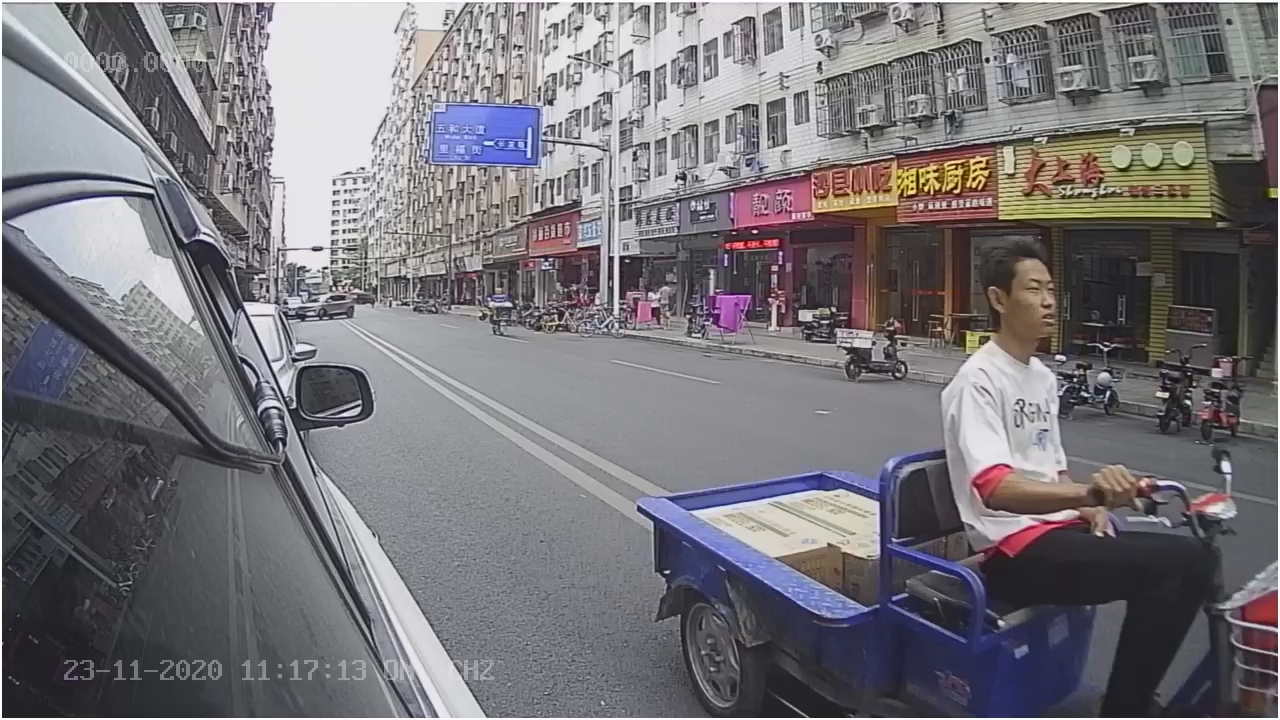person: (936, 238, 1144, 505)
